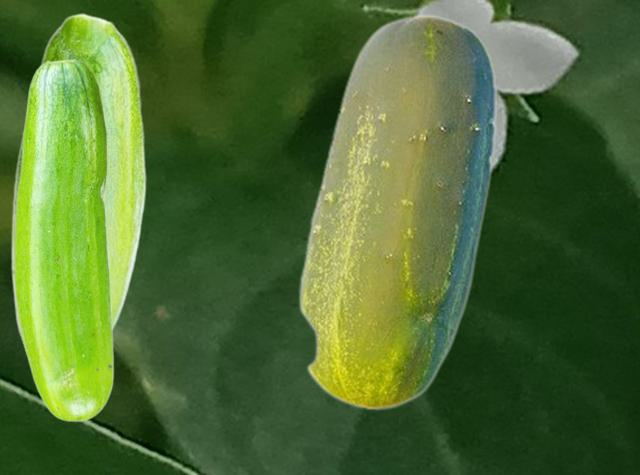cucumber: (297, 13, 495, 410), (10, 13, 145, 358), (14, 58, 113, 421)
